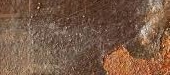Corrosion: (102, 26, 170, 75)
